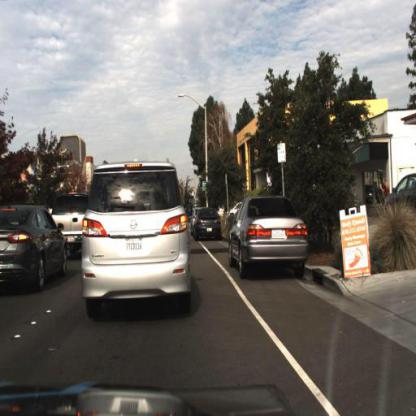car: (80, 162, 194, 317), (226, 196, 311, 281), (1, 202, 70, 296), (50, 192, 90, 249), (387, 172, 416, 218), (191, 206, 224, 245)
pedestrian: (380, 176, 392, 203), (380, 174, 388, 208)
